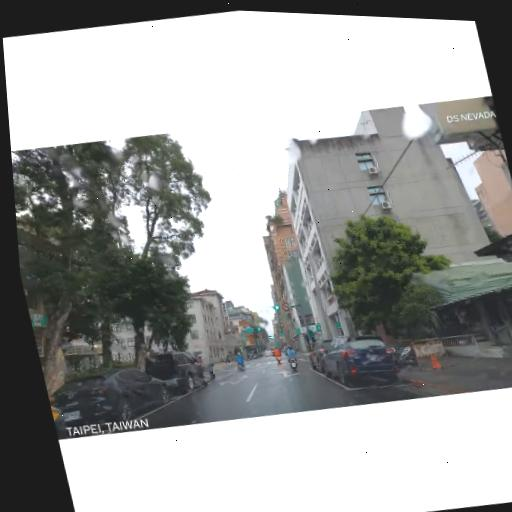Car: (42, 355, 178, 442), (314, 326, 402, 391), (134, 345, 209, 402), (304, 332, 355, 376), (49, 396, 70, 439), (262, 347, 272, 357)
